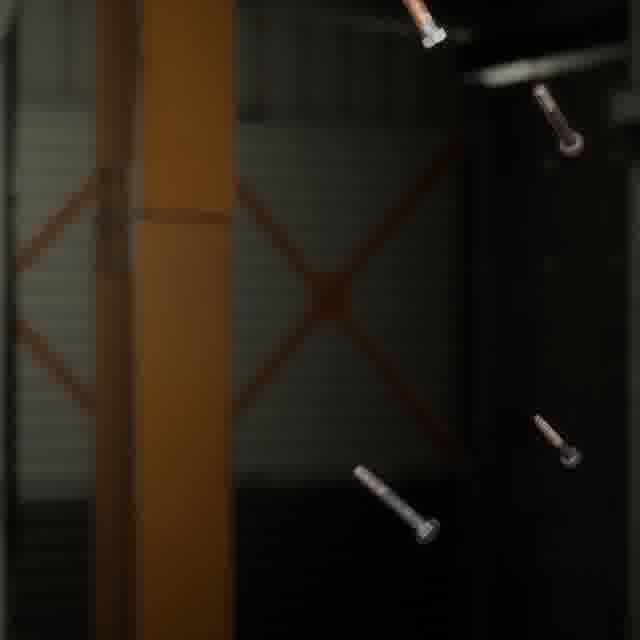bolt: (349, 460, 444, 549), (528, 80, 588, 161), (528, 410, 586, 472), (397, 0, 451, 53)
